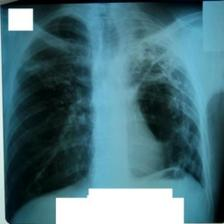tuberculosis: (2, 7, 210, 224)
